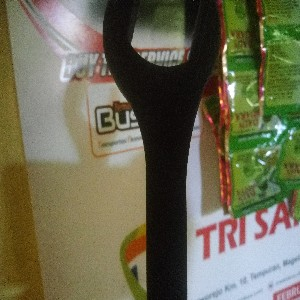spanner: (102, 1, 225, 300)
